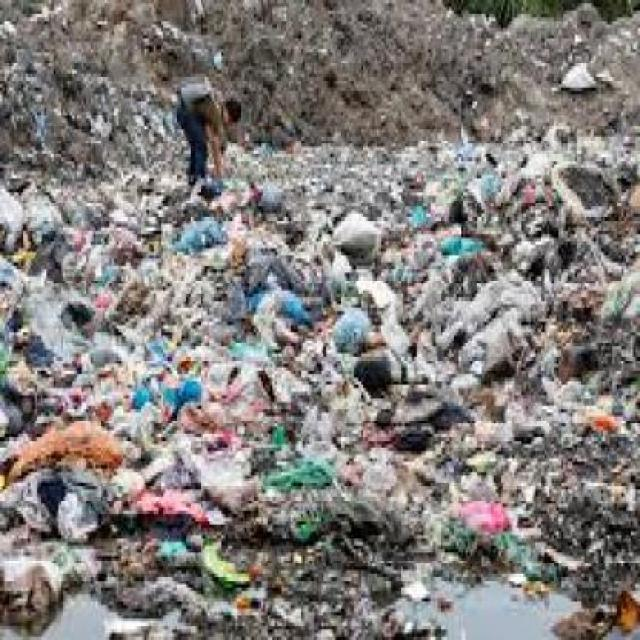garbage: (380, 186, 638, 637), (0, 0, 172, 636), (176, 178, 376, 636), (248, 0, 639, 174)
